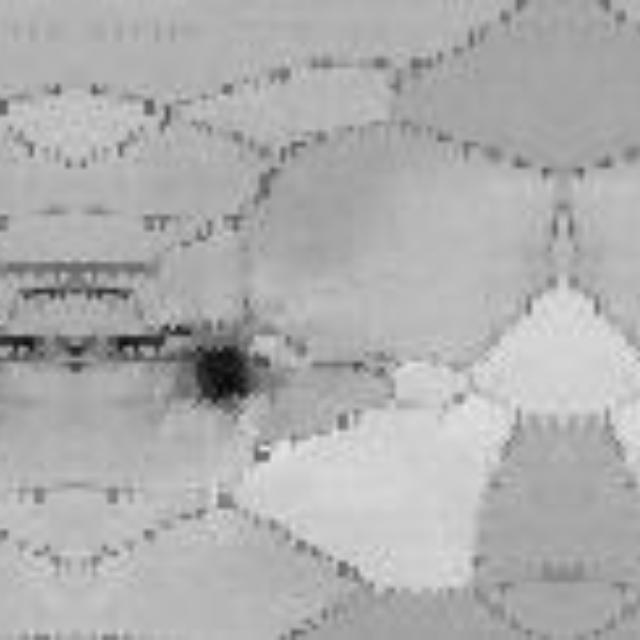good_void: (111, 322, 266, 414)
